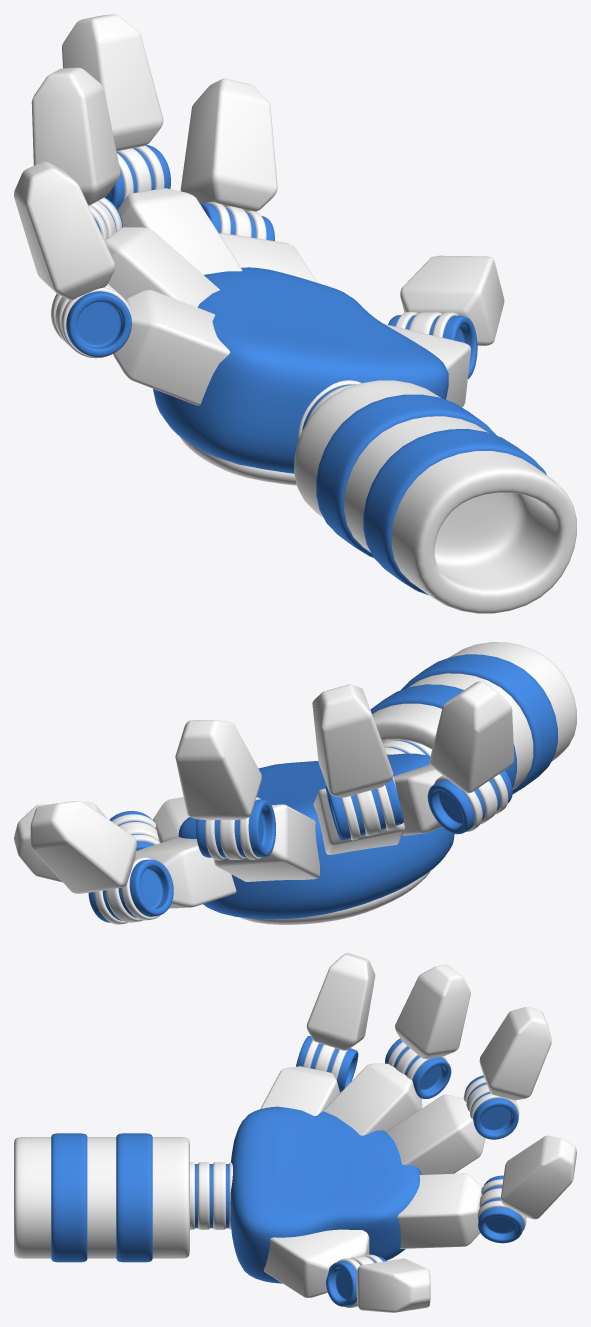
Rendered from robot-hand-3d-animated-icon-1660830383451.glb.
3 renders of one model, top to bottom at view 1: azimuth 30°, elevation 25°; view 2: azimuth 150°, elevation 25°; view 3: azimuth 270°, elevation 25°, orthographic. The views are drawn at different scales.
Visible parts, largest first — view 1: Cube.274, Cube.026, Cube.279, Cube.031, Cube.037, Cube.036, Cube.035, Cube.029, Cube.033, Cube.028, Cube.034, Cylinder.041 (+11 smaller); view 2: Cube.026, Cube.274, Cube.031, Cube.029, Cube.037, Cube.035, Cube.279, Cube.028, Cube.030, Cylinder.035, Cylinder.041, Cube.036 (+12 smaller); view 3: Cube.026, Cube.274, Cube.279, Cube.028, Cube.030, Cube.035, Cube.029, Cube.037, Cube.032, Cube.034, Cube.031, Cube.033 (+12 smaller).
Part boxes in pixels (x1,y1,x2,y2): Cube.274: (294, 380, 576, 613); Cube.026: (153, 267, 448, 473); Cube.279: (316, 394, 546, 595); Cube.031: (180, 78, 277, 211); Cube.037: (14, 161, 114, 300); Cube.036: (113, 290, 229, 405); Cube.035: (31, 67, 120, 205); Cube.029: (62, 14, 163, 151); Cube.033: (400, 255, 504, 345); Cube.028: (118, 188, 242, 274); Cube.034: (105, 227, 219, 307); Cylinder.041: (53, 291, 131, 356); Cube.026: (178, 753, 454, 919); Cube.274: (372, 642, 576, 789); Cube.031: (30, 801, 136, 893); Cube.029: (175, 720, 261, 820); Cube.037: (429, 681, 514, 793); Cube.035: (312, 684, 393, 797); Cube.279: (370, 654, 557, 793); Cube.028: (214, 804, 319, 881); Cube.030: (135, 837, 236, 908); Cylinder.035: (88, 859, 173, 922); Cylinder.041: (427, 770, 512, 834); Cube.036: (393, 764, 442, 835); Cube.026: (230, 1106, 421, 1283); Cube.274: (14, 1137, 189, 1258); Cube.279: (51, 1133, 152, 1262); Cube.028: (386, 1094, 485, 1174); Cube.030: (397, 1173, 482, 1248); Cube.035: (395, 964, 470, 1058); Cube.029: (479, 1007, 551, 1100); Cube.037: (306, 953, 375, 1050); Cube.032: (263, 1229, 369, 1297); Cube.034: (323, 1063, 422, 1135); Cube.031: (500, 1135, 576, 1219); Cube.033: (356, 1258, 430, 1312).
Size of the model in its own units: 8.55 by 5.74 by 11.63.
